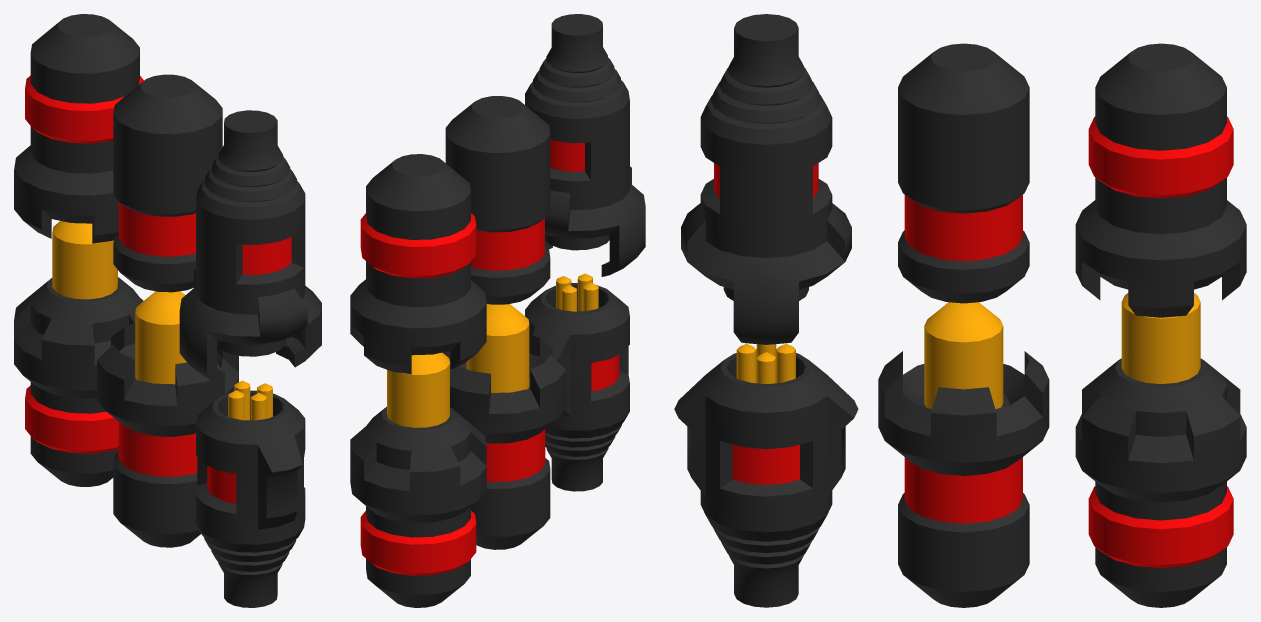
Rendered from Cableheads.fbx.
3 views of the same model, side by side, from view 1: azimuth 30°, elevation 25°; view 2: azimuth 150°, elevation 25°; view 3: azimuth 270°, elevation 25° (orthographic). The views are drawn at different scales.
Visible parts, largest first — view 1: Cablehead Female V1, Cablehead Male V3, Cablehead Male V2, Cablehead Female V3, Cablehead Male V1, Cablehead Female V2; view 2: Cablehead Male V3, Cablehead Female V3, Cablehead Female V1, Cablehead Male V2, Cablehead Female V2, Cablehead Male V1; view 3: Cablehead Male V3, Cablehead Male V2, Cablehead Female V3, Cablehead Female V1, Cablehead Male V1, Cablehead Female V2.
Part boxes in pixels (left/top/right/bottom): Cablehead Female V1: left=179, top=110, right=321, bottom=384; Cablehead Male V3: left=14, top=221, right=143, bottom=486; Cablehead Male V2: left=97, top=291, right=238, bottom=547; Cablehead Female V3: left=14, top=14, right=143, bottom=243; Cablehead Male V1: left=196, top=380, right=305, bottom=607; Cablehead Female V2: left=113, top=74, right=222, bottom=292; Cablehead Male V3: left=350, top=352, right=486, bottom=607; Cablehead Female V3: left=350, top=154, right=486, bottom=374; Cablehead Female V1: left=525, top=14, right=645, bottom=276; Cablehead Male V2: left=442, top=304, right=566, bottom=549; Cablehead Female V2: left=445, top=96, right=550, bottom=304; Cablehead Male V1: left=525, top=273, right=629, bottom=491; Cablehead Male V3: left=1075, top=293, right=1246, bottom=607; Cablehead Male V2: left=878, top=302, right=1049, bottom=607; Cablehead Female V3: left=1075, top=43, right=1246, bottom=317; Cablehead Female V1: left=681, top=14, right=851, bottom=344; Cablehead Male V1: left=674, top=343, right=858, bottom=607; Cablehead Female V2: left=898, top=43, right=1029, bottom=303.
Size of the model in its own units: 2.6 by 9.5 by 8.7.
